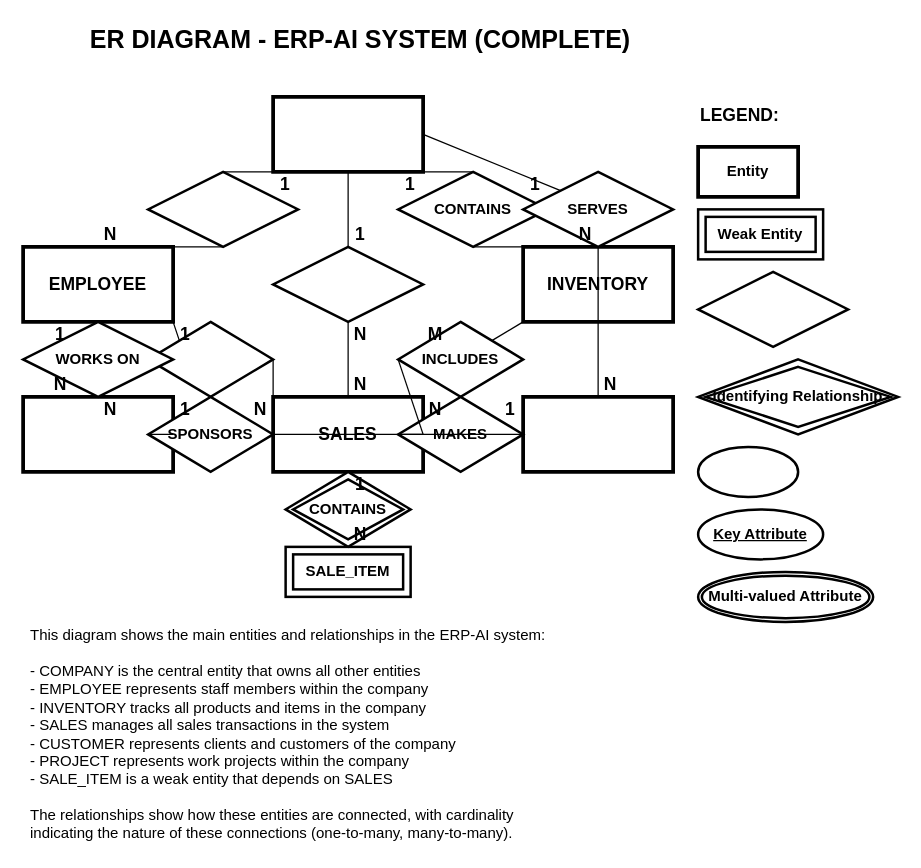
Some shapes in this 921 by 868 pixel diagram are drawn without their labels. Each missing label, with the box of its shape:
Attribute: (696, 445, 799, 498)
COMPANY: (271, 94, 424, 173)
CUSTOMER: (521, 394, 674, 473)
EMPLOYS: (146, 170, 299, 248)
PROCESSES: (146, 320, 274, 398)
PROJECT: (21, 394, 174, 473)
RECORDS: (271, 245, 424, 322)
Relationship: (696, 270, 849, 348)
